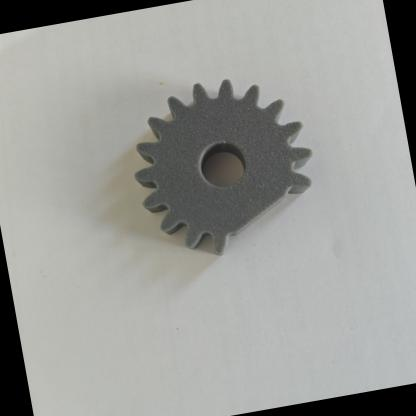defect: (173, 156, 336, 272)
gear: (92, 53, 348, 300)
